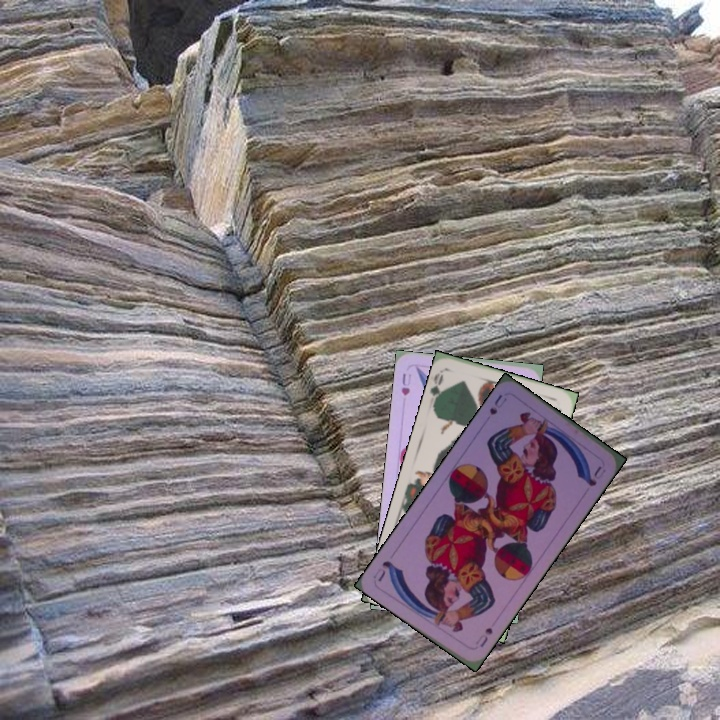GO: (427, 368, 449, 408)
HU: (397, 370, 414, 398)
SU: (485, 390, 510, 418), (471, 623, 495, 650)
